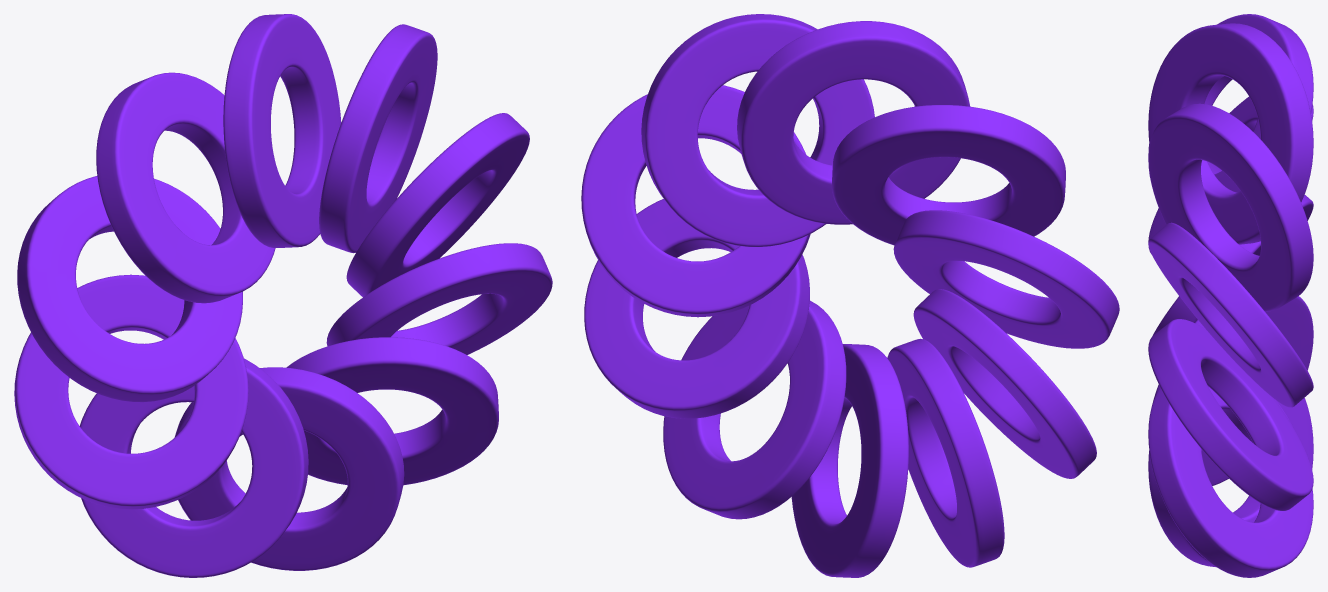
The picture shows the model from 3 angles, left to right: view 1: azimuth 30°, elevation 25°; view 2: azimuth 150°, elevation 25°; view 3: azimuth 270°, elevation 25°; orthographic projection. The views are drawn at different scales.
Parts seen in each view (by area): view 1: Shape4; view 2: Shape4; view 3: Shape4.
Part boxes in pixels (left/top/right/bottom): Shape4: left=14, top=14, right=552, bottom=577; Shape4: left=581, top=14, right=1119, bottom=577; Shape4: left=1148, top=14, right=1313, bottom=577.
Bounding box in the file's own units: 4.05 × 4.16 × 1.2.
